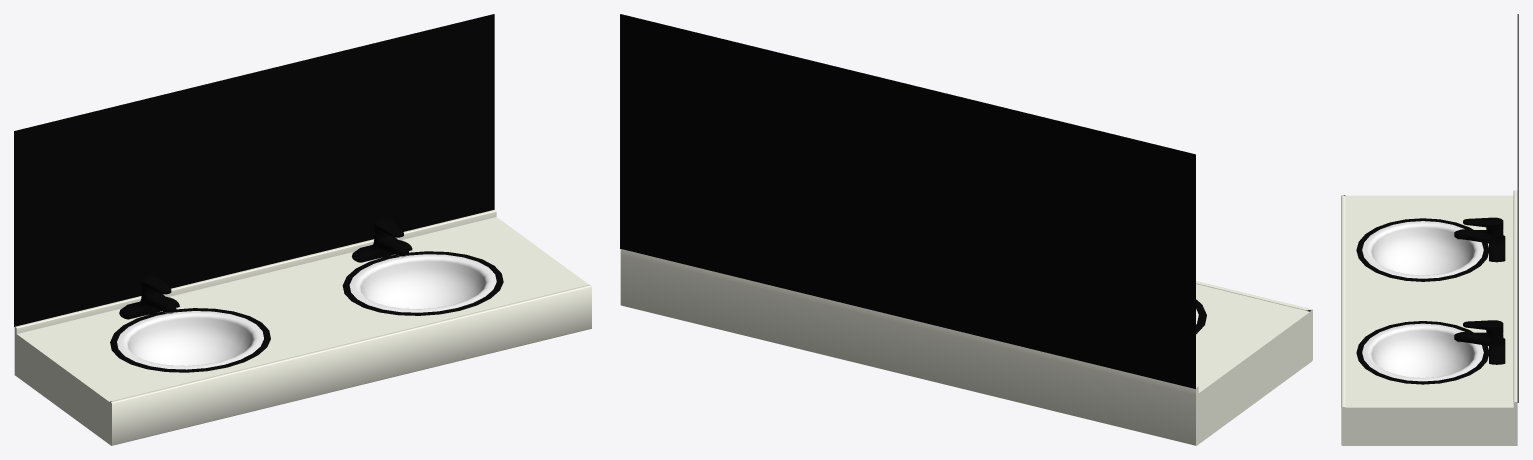
File: toilet_longbasin.glb
3 views of the same model, side by side, from view 1: azimuth 30°, elevation 25°; view 2: azimuth 150°, elevation 25°; view 3: azimuth 270°, elevation 25° (orthographic). The views are drawn at different scales.
Visible parts, largest first — view 1: Object_2; view 2: Object_2; view 3: Object_2.
Part boxes in pixels (x1=…): Object_2: x1=14, y1=14, x2=591, y2=445; Object_2: x1=620, y1=14, x2=1312, y2=445; Object_2: x1=1341, y1=14, x2=1518, y2=445.
Size of the model in its own units: 165 by 80 by 58.3.
1 material, 1 textured.
